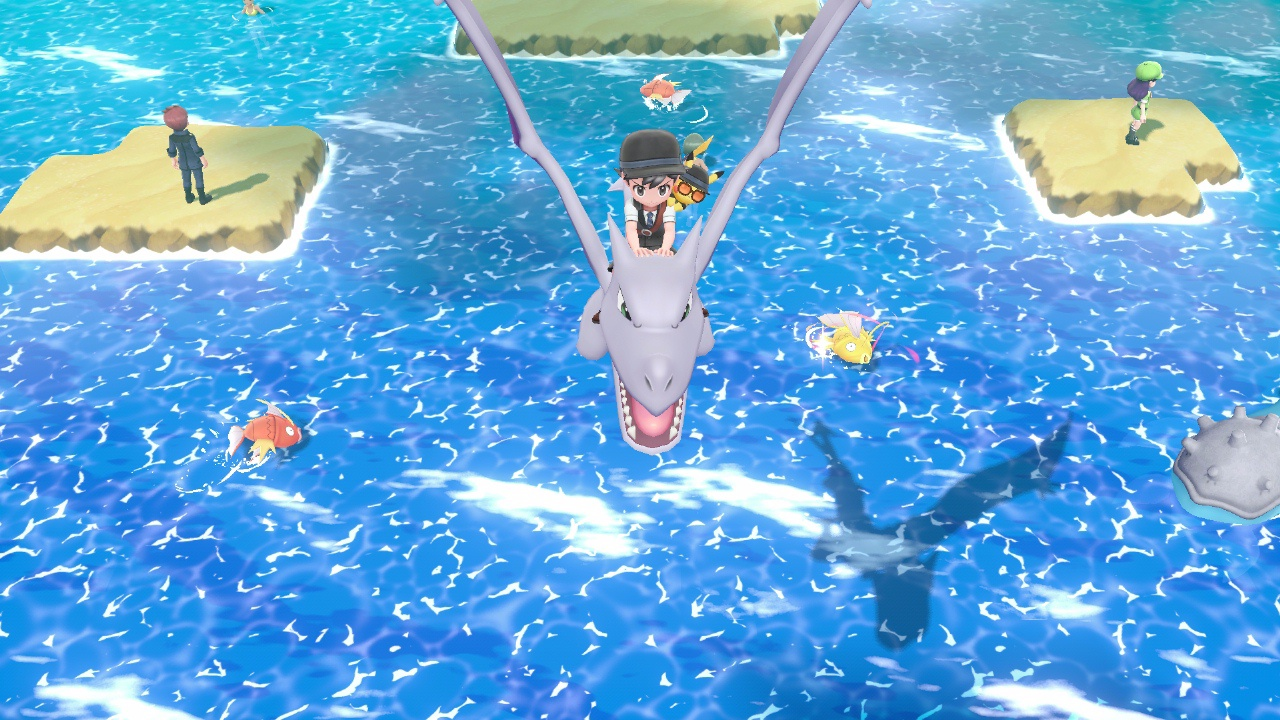Golden: (811, 312, 881, 364)
Red: (229, 401, 302, 466), (639, 73, 689, 115)
